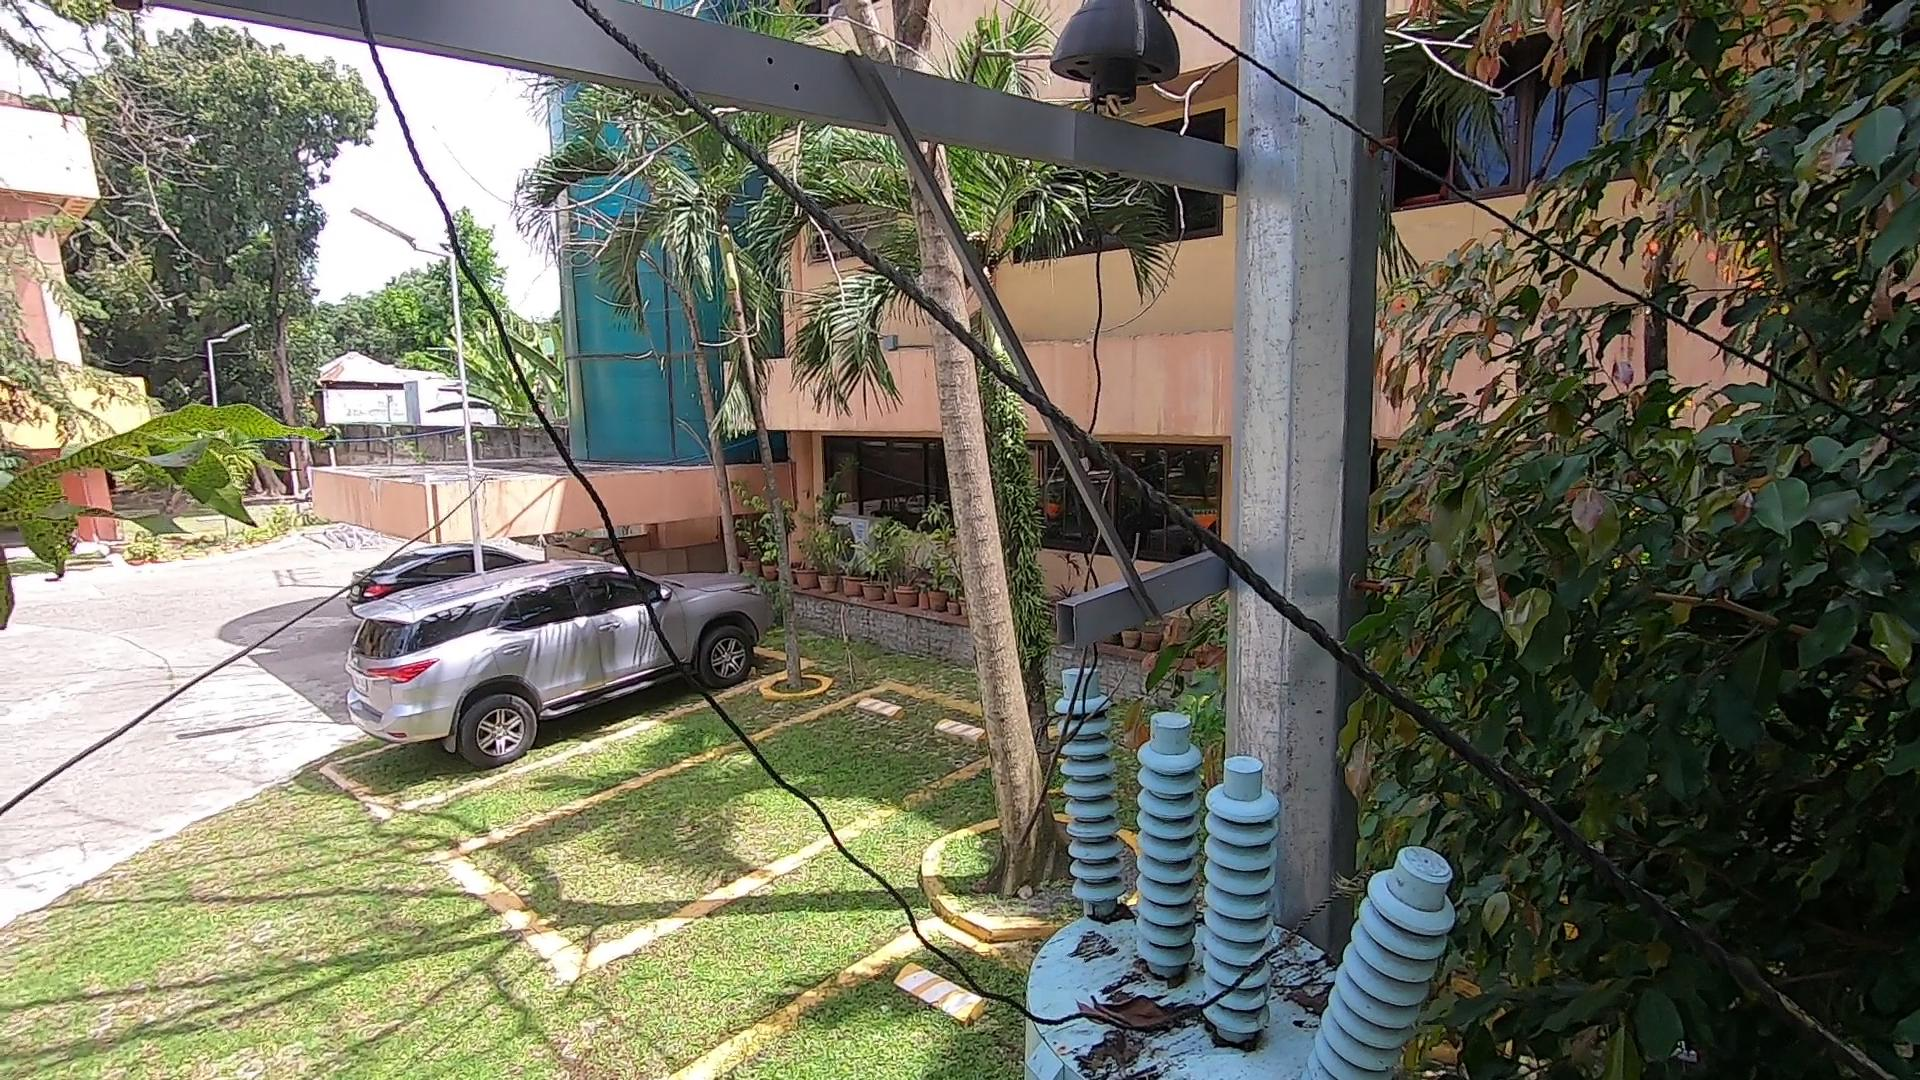leaf: (1063, 984, 1208, 1040), (1276, 971, 1340, 1019), (1081, 894, 1145, 938)
tree branch: (985, 471, 1147, 852)
